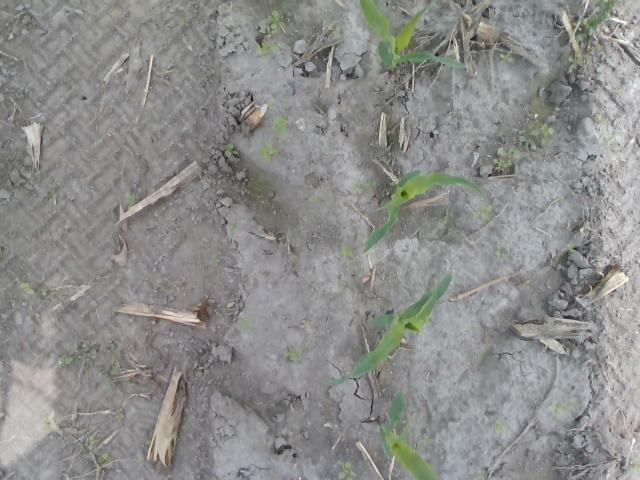Maize: (324, 272, 453, 388), (361, 169, 485, 255), (358, 1, 468, 71), (377, 390, 442, 480)
Weeds: (566, 0, 620, 71), (59, 342, 120, 394), (256, 10, 282, 54), (83, 434, 115, 469), (517, 122, 556, 145), (548, 396, 580, 418), (494, 148, 521, 174), (603, 132, 624, 156), (19, 282, 47, 298), (260, 142, 280, 163), (472, 204, 494, 222), (337, 461, 358, 479), (272, 116, 290, 136), (284, 346, 306, 362), (352, 178, 377, 190), (49, 178, 59, 206), (339, 242, 354, 259), (224, 142, 239, 158), (238, 316, 255, 330), (154, 275, 168, 292), (440, 206, 453, 224), (494, 420, 508, 436), (494, 246, 510, 260), (421, 432, 435, 446), (631, 456, 640, 476), (500, 52, 514, 64), (326, 25, 341, 36), (40, 417, 51, 431), (594, 114, 610, 123), (128, 192, 138, 206), (230, 224, 240, 236), (474, 472, 486, 480), (565, 244, 575, 253), (36, 364, 45, 374), (126, 380, 135, 387)
